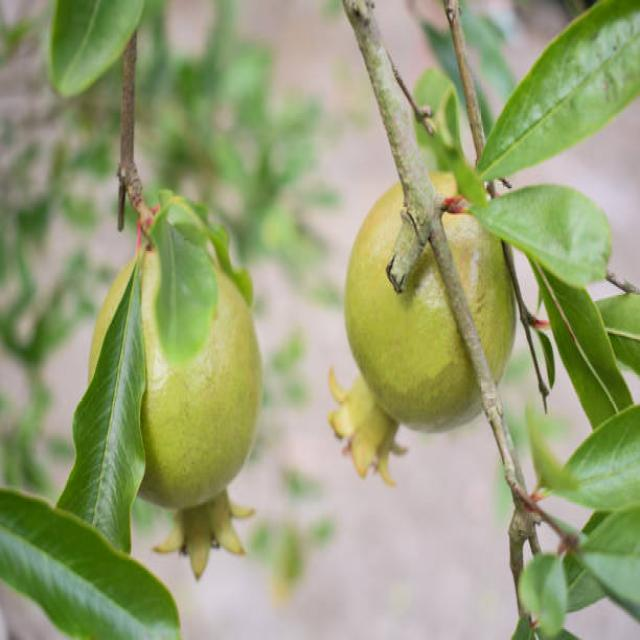Unripe: (330, 165, 515, 491), (88, 239, 263, 581)
